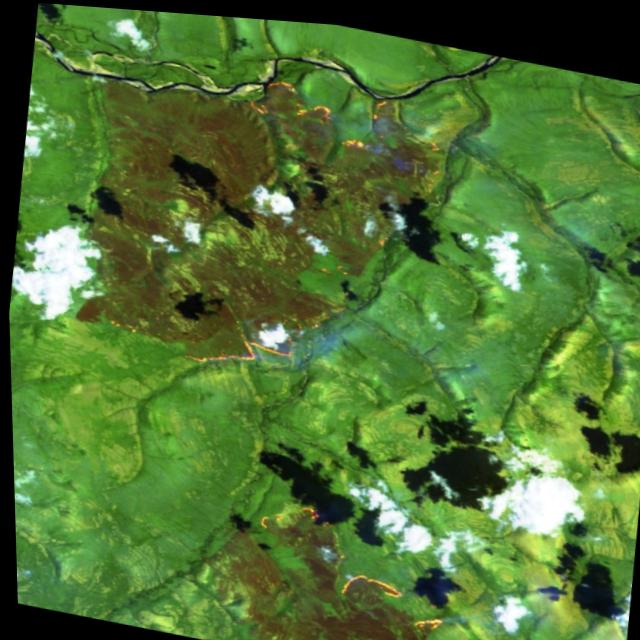fire: (236, 51, 460, 193), (235, 491, 452, 635), (143, 284, 308, 386)
